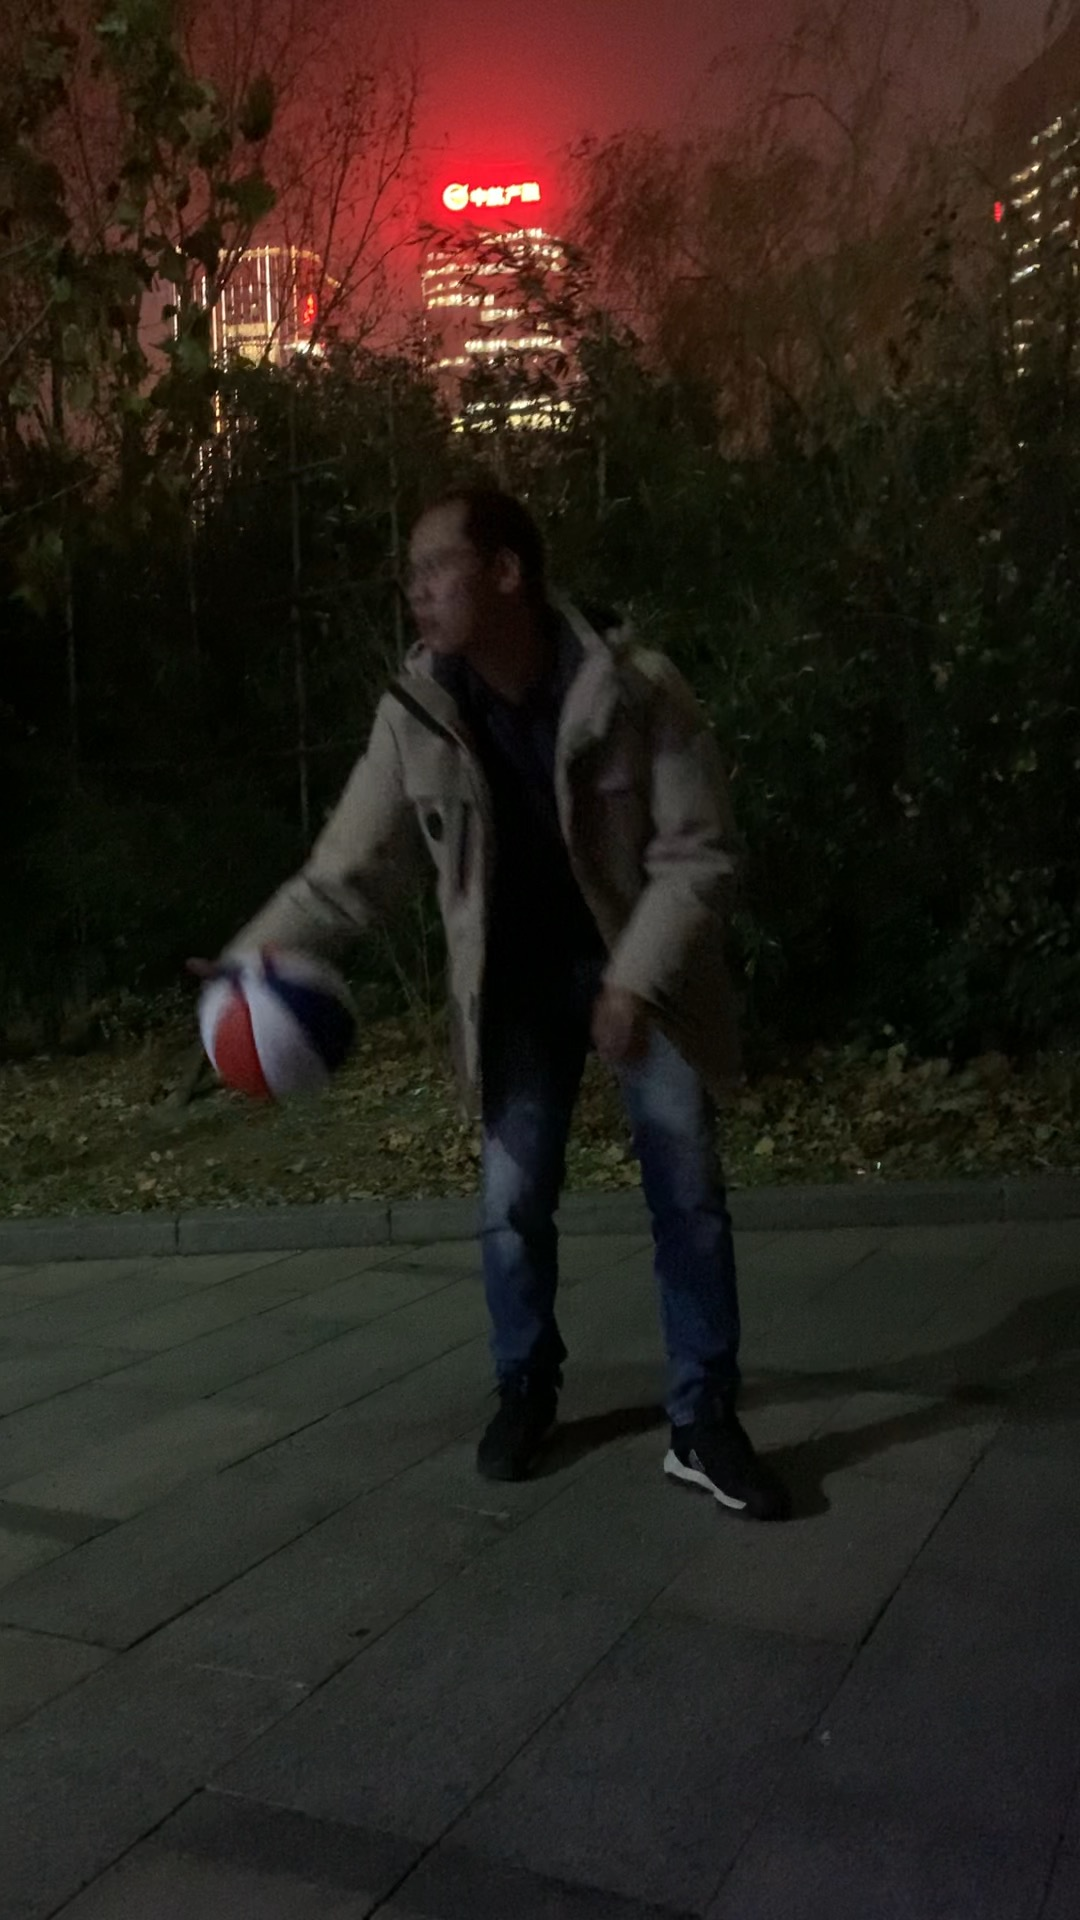ball: (200, 945, 360, 1102)
